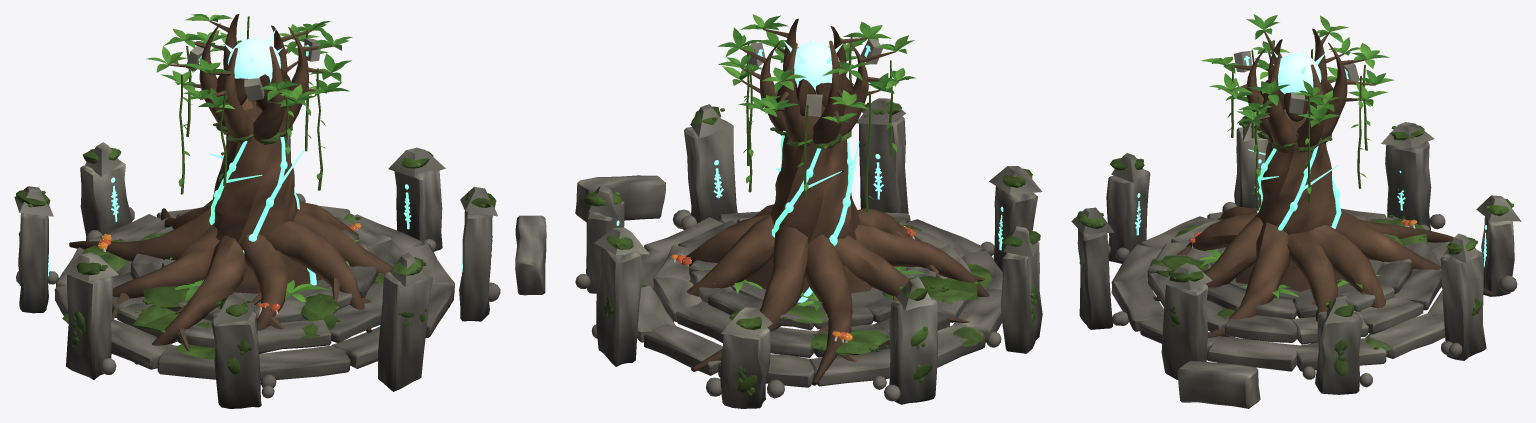
The model's file is heartwood.glb.
The picture shows the model from 3 angles, left to right: view 1: azimuth 30°, elevation 25°; view 2: azimuth 150°, elevation 25°; view 3: azimuth 270°, elevation 25°; orthographic projection. The views are drawn at different scales.
Parts seen in each view (by area): view 1: Body, Heart, Orbit; view 2: Body, Heart, Orbit; view 3: Body, Heart, Orbit.
Part boxes in pixels (x1=…): Body: x1=14, y1=14, x2=546, y2=408; Heart: x1=216, y1=26, x2=291, y2=111; Orbit: x1=186, y1=38, x2=320, y2=101; Body: x1=575, y1=14, x2=1042, y2=408; Heart: x1=776, y1=34, x2=853, y2=115; Orbit: x1=748, y1=39, x2=882, y2=116; Body: x1=1071, y1=14, x2=1521, y2=408; Heart: x1=1259, y1=44, x2=1333, y2=121; Orbit: x1=1233, y1=51, x2=1359, y2=114.
Bounding box in the file's own units: 8.52 × 5 × 7.63.
